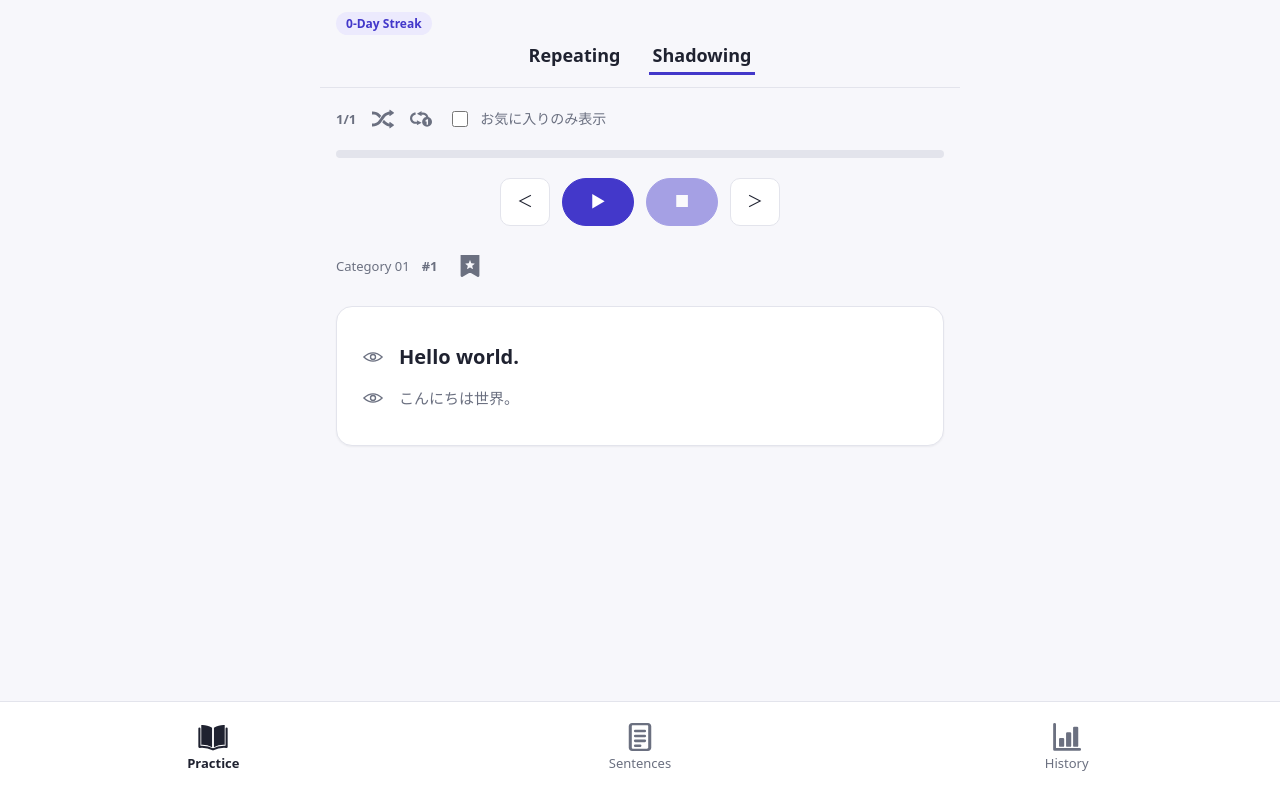
Test: App › 同期時の認証（仕様書7.1節） › 同期時の認証に失敗した場合は同期せず、ログイン失敗のメッセージを表示する
The width and height of the screenshot is (1280, 800).
Expected: the text "Hello world." is shown, [399,342,519,372]
Click the button "Sentences" at (640, 751), box [427,702,853,799]
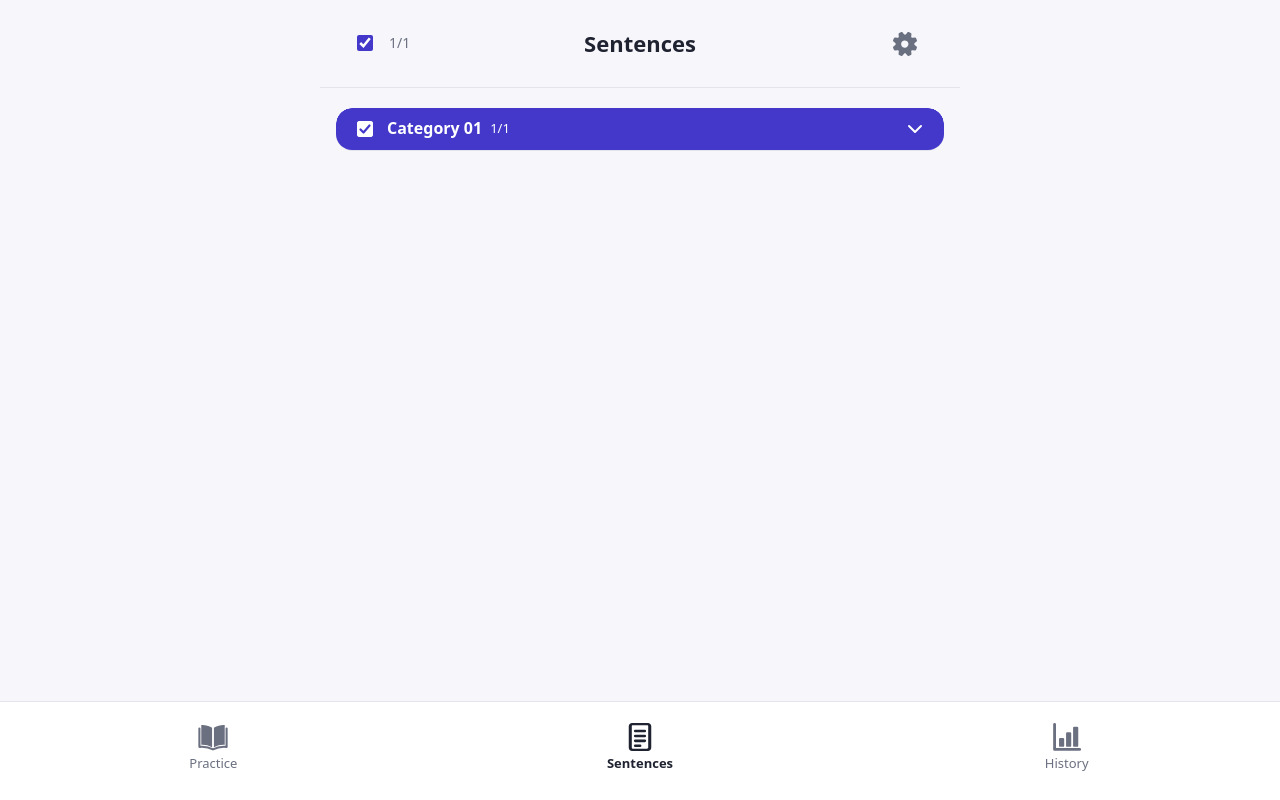
Click the button named "Settings" at (905, 44), box [883,22,927,66]
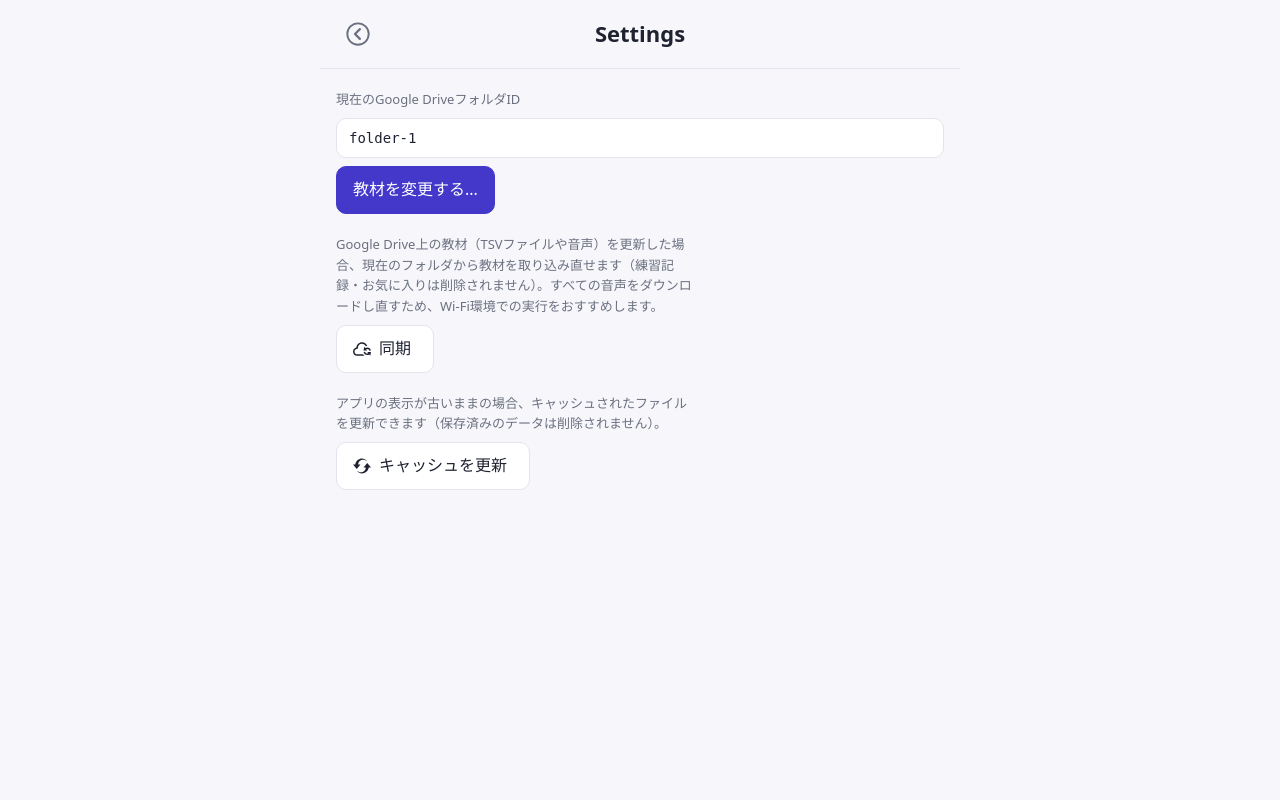
Click the button "同期" at (385, 349), box [336,325,434,373]
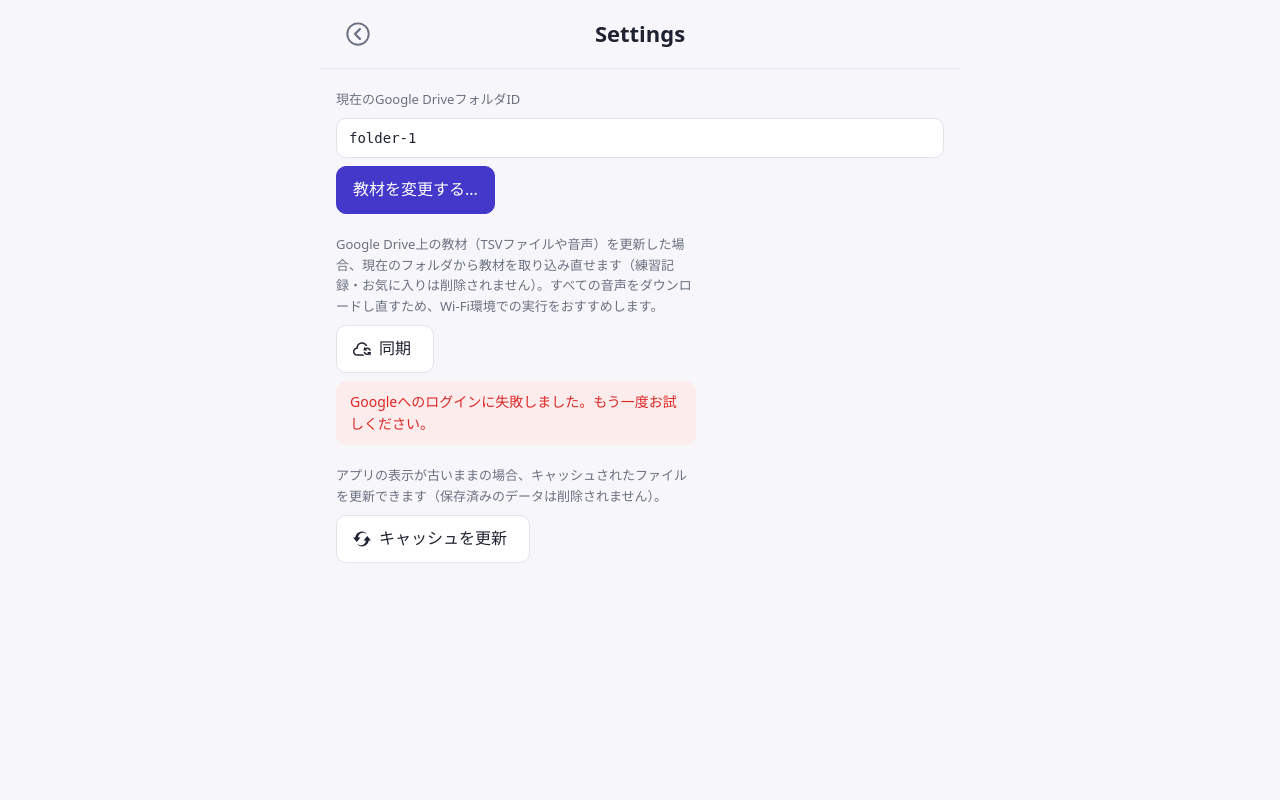
Expected: the text "Googleへのログインに失敗しました。もう一度お試しください。" is shown, [336,381,696,445]
